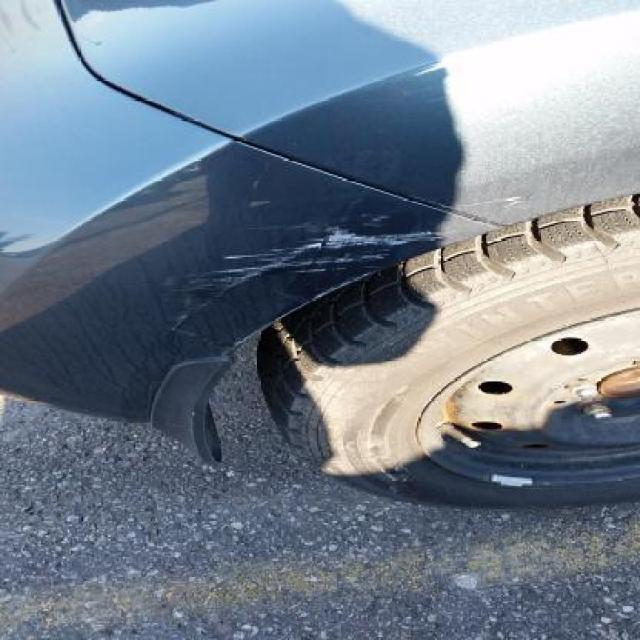scratch: (163, 238, 303, 316), (303, 212, 443, 274), (438, 182, 532, 220)
